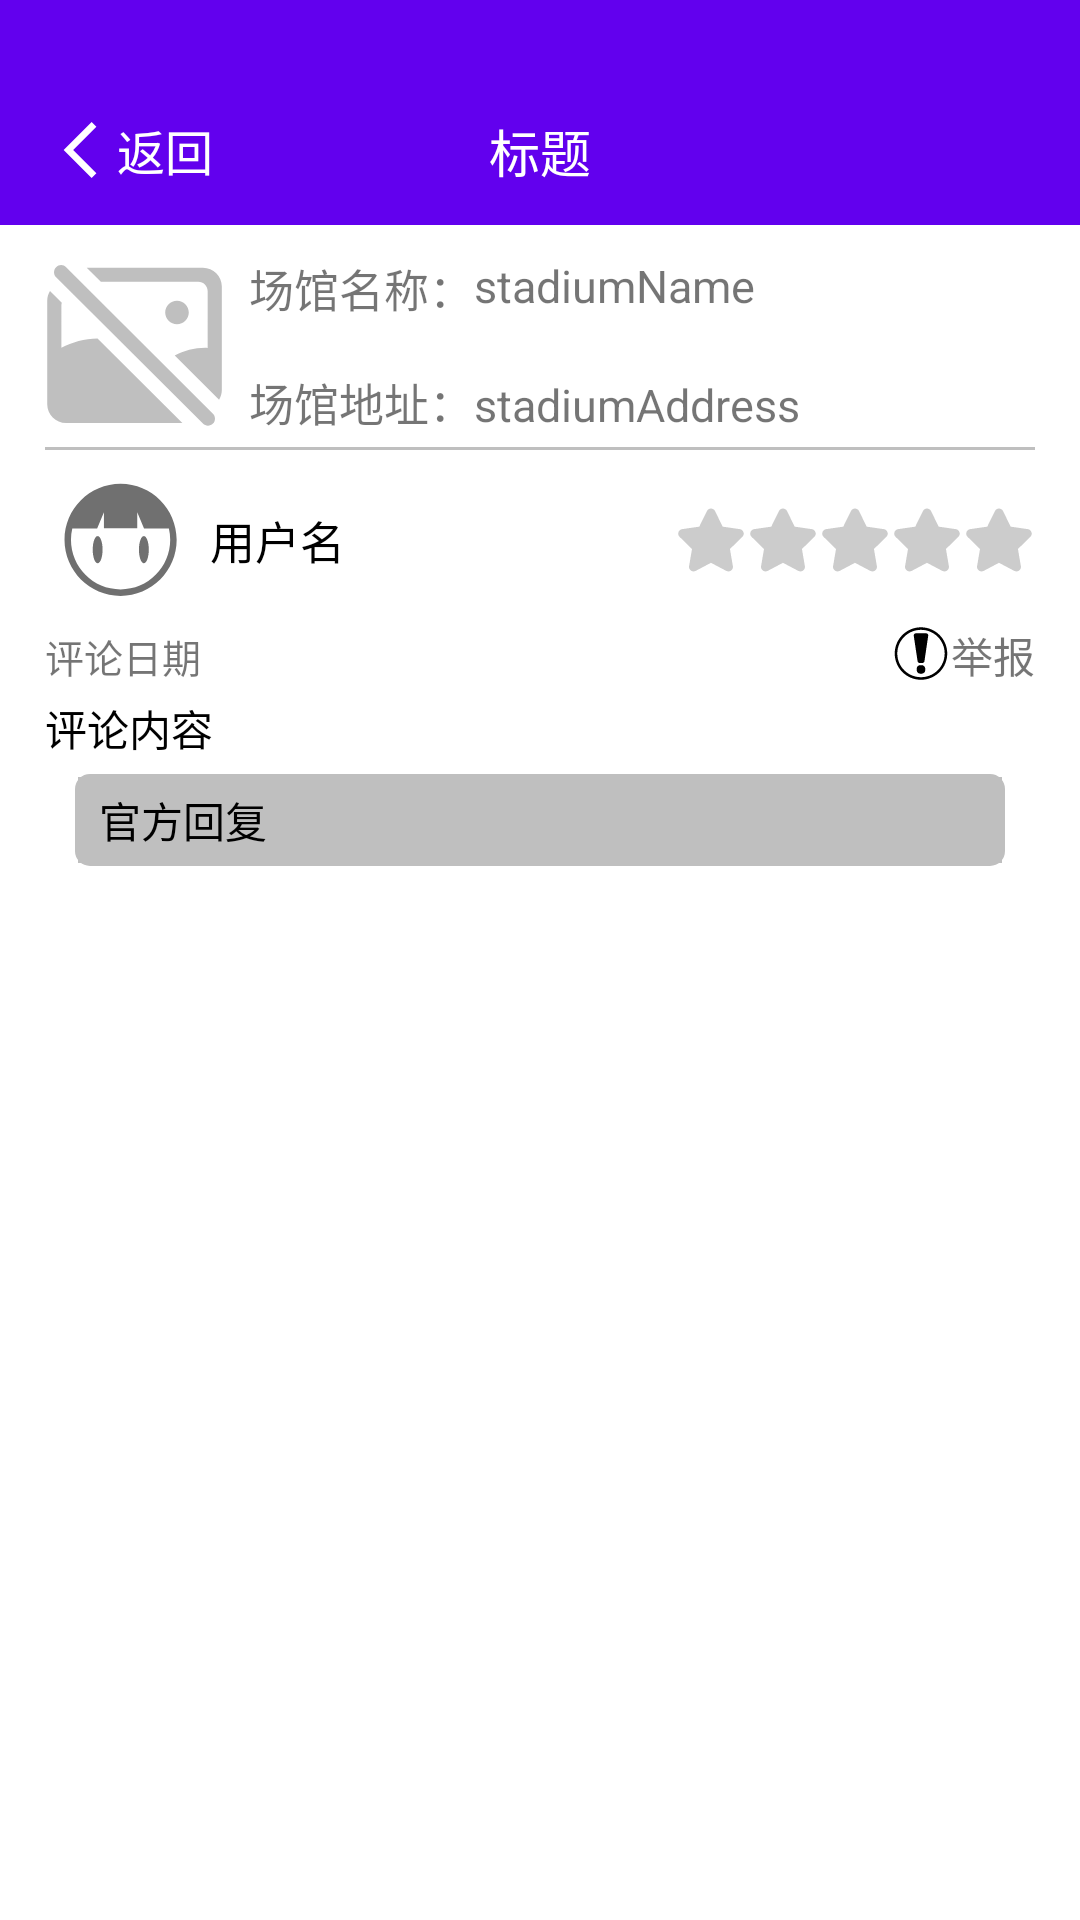

Named icons in this screenshot (1080*1920) and their centers, (x=x, y=y):
star empty: (x=711, y=540), (x=783, y=540), (x=855, y=540), (x=927, y=540), (x=999, y=540)
